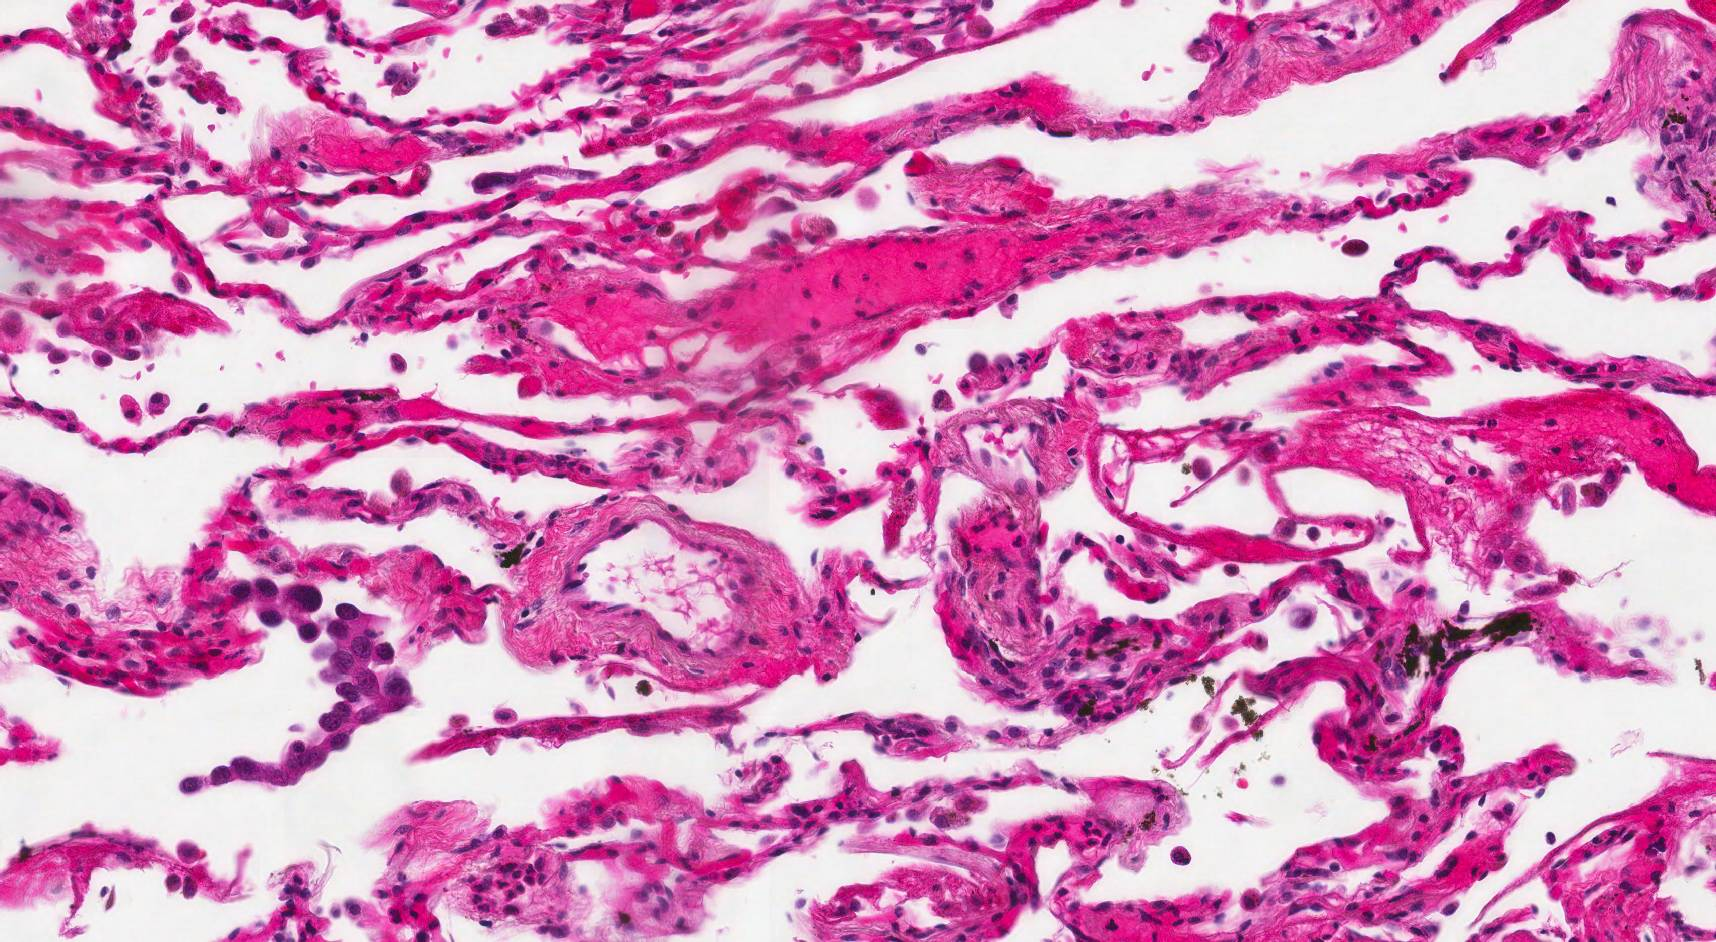stas: (178, 583, 412, 792)
